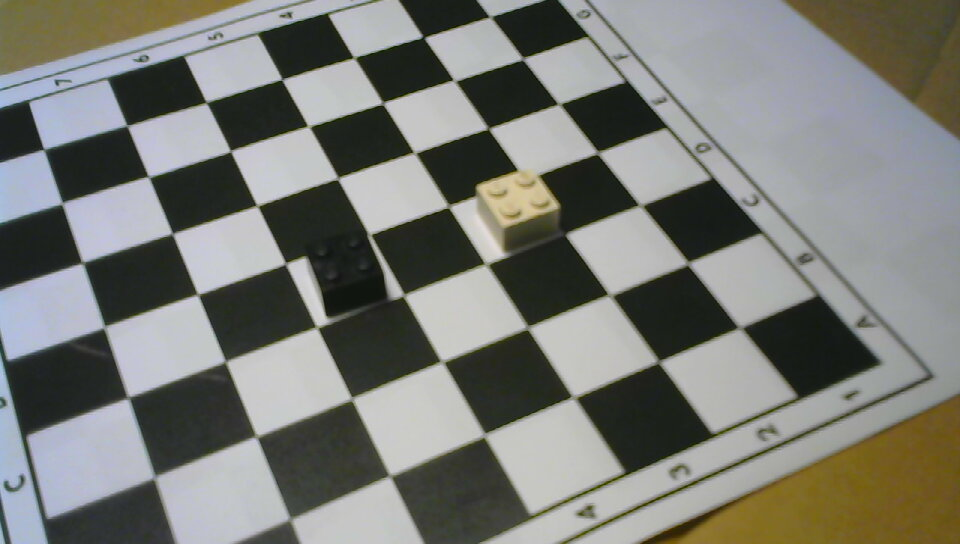bp: (306, 232, 387, 316)
wp: (476, 171, 560, 249)
